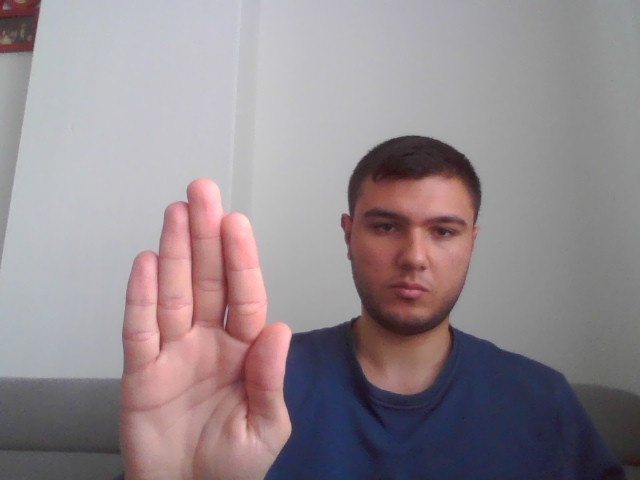Hello: (120, 176, 294, 475)
